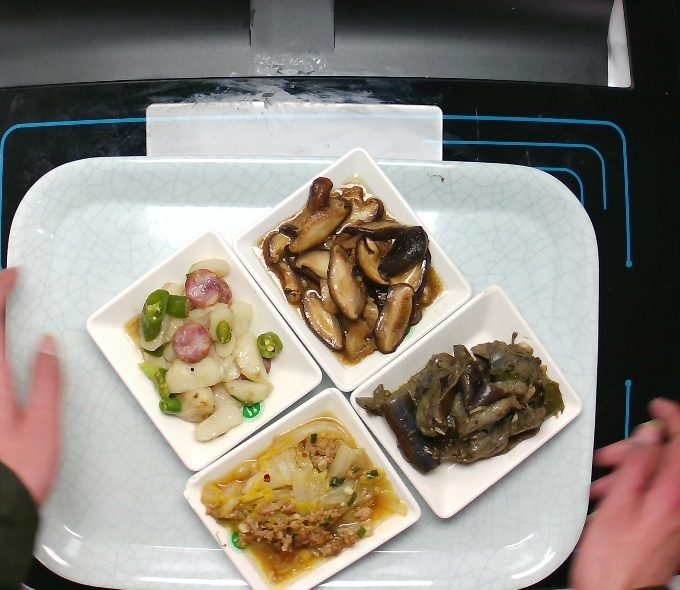wcq-MaTiGuo: (121, 255, 296, 450)
wcq-MoGu: (257, 171, 438, 366)
wcq-QieZi: (351, 328, 567, 489)
wcq-RouMoBaiCai: (194, 411, 408, 581)
